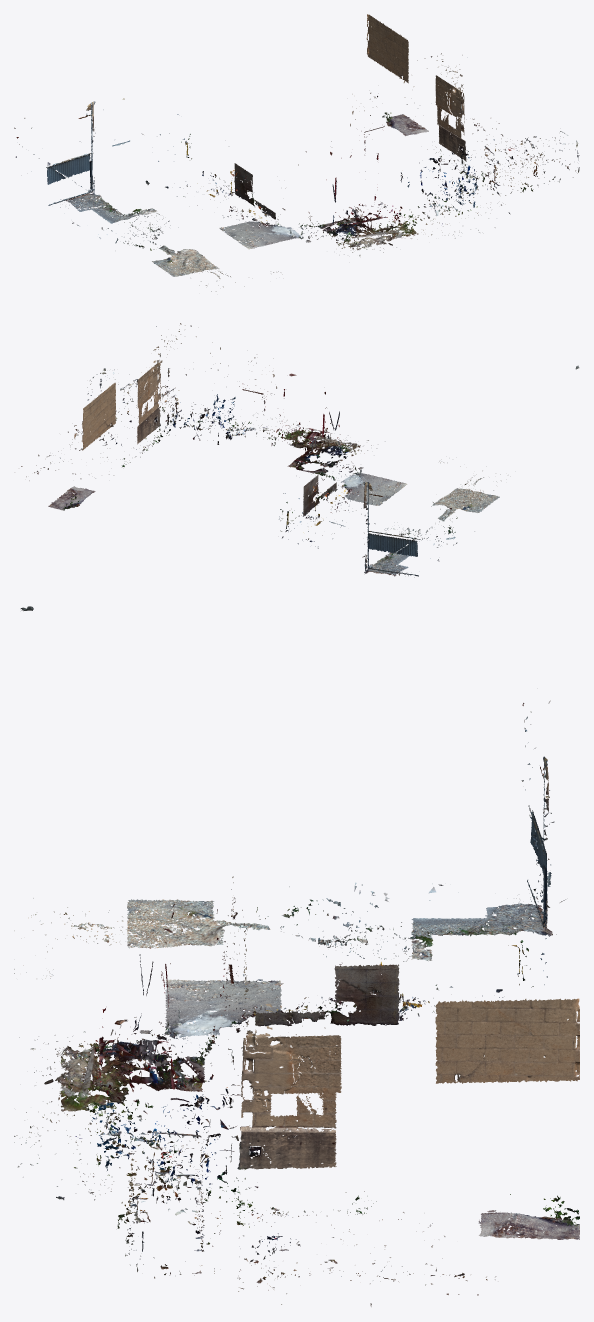
3 renders of one model, top to bottom at view 1: azimuth 30°, elevation 25°; view 2: azimuth 150°, elevation 25°; view 3: azimuth 270°, elevation 25°, orthographic. The views are drawn at different scales.
Size of the model in its own units: 11.16 by 3.29 by 6.15.
Materials: 1 (1 with a texture image).
